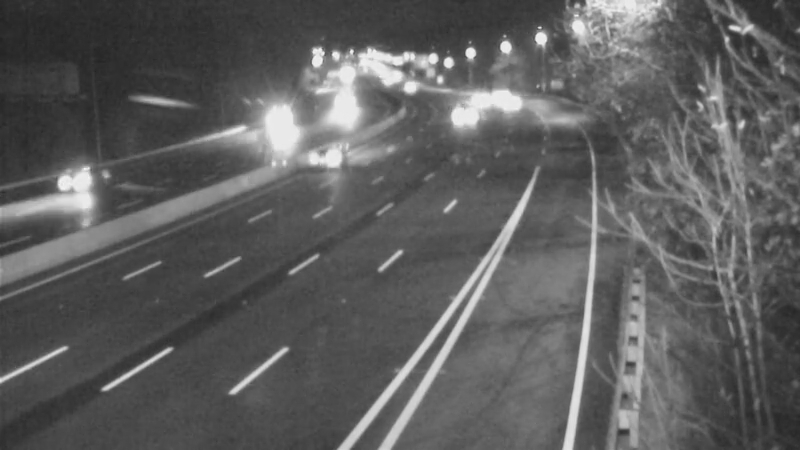vehicle: (284, 116, 364, 196), (36, 140, 116, 220), (382, 60, 432, 110), (471, 71, 521, 121), (489, 77, 539, 127), (451, 74, 501, 124), (438, 89, 488, 139), (243, 98, 293, 148), (314, 84, 364, 134)
